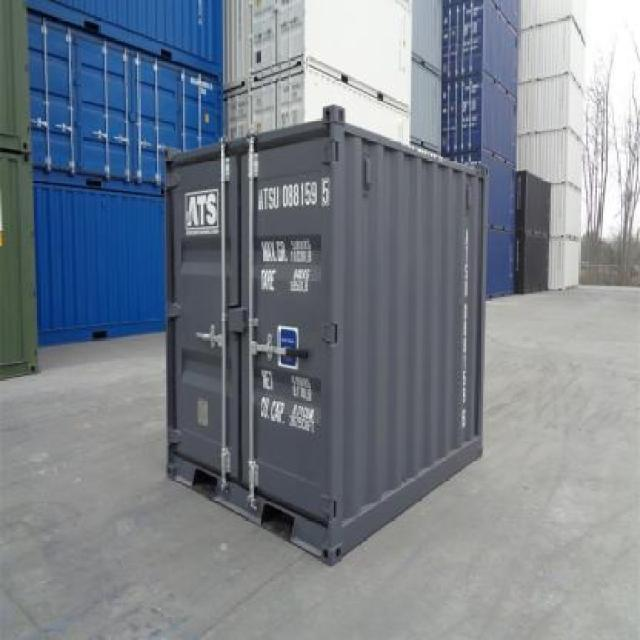container_number: (258, 175, 334, 219)
